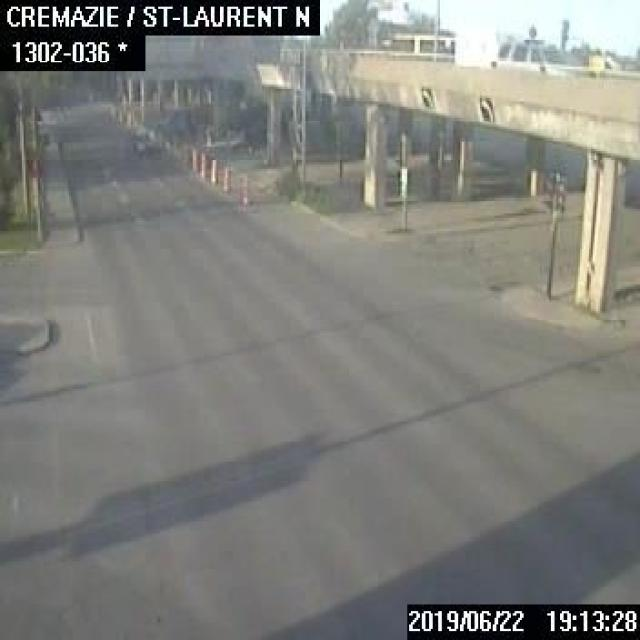construction: (240, 167, 249, 204), (188, 144, 196, 173), (221, 165, 229, 193), (208, 156, 216, 184), (197, 151, 205, 179)
vehicle: (493, 34, 576, 72)
